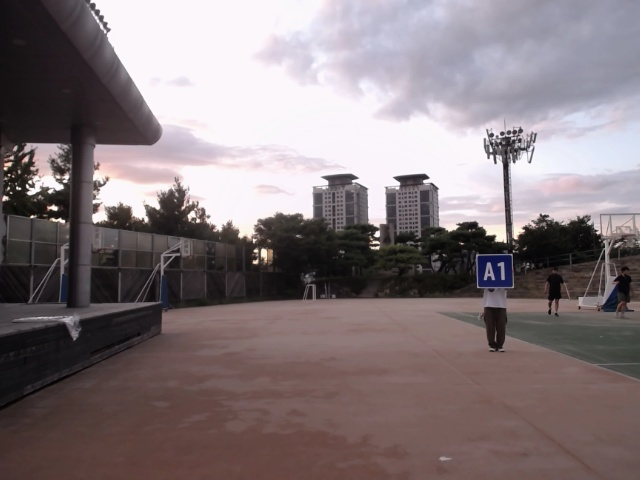delivery_a1: (477, 255, 514, 288)
